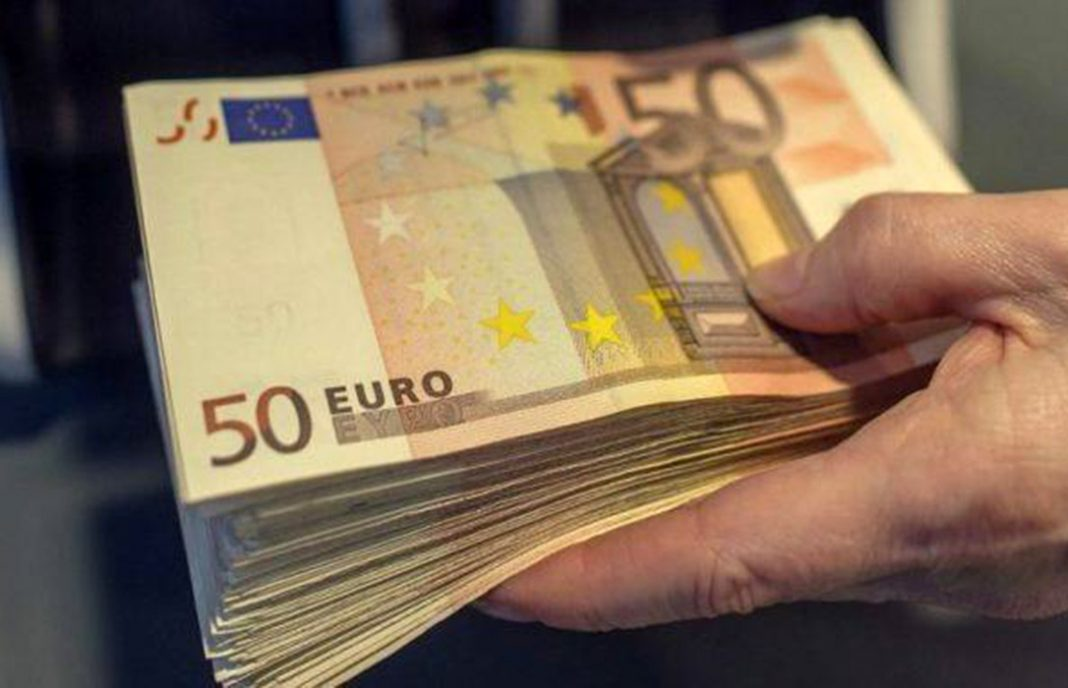billete: (114, 13, 1003, 687)
